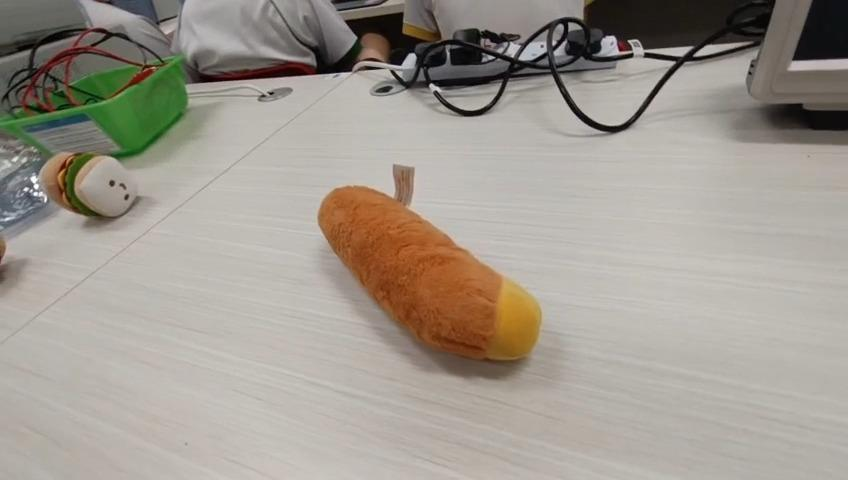hotdog: (316, 182, 542, 362)
